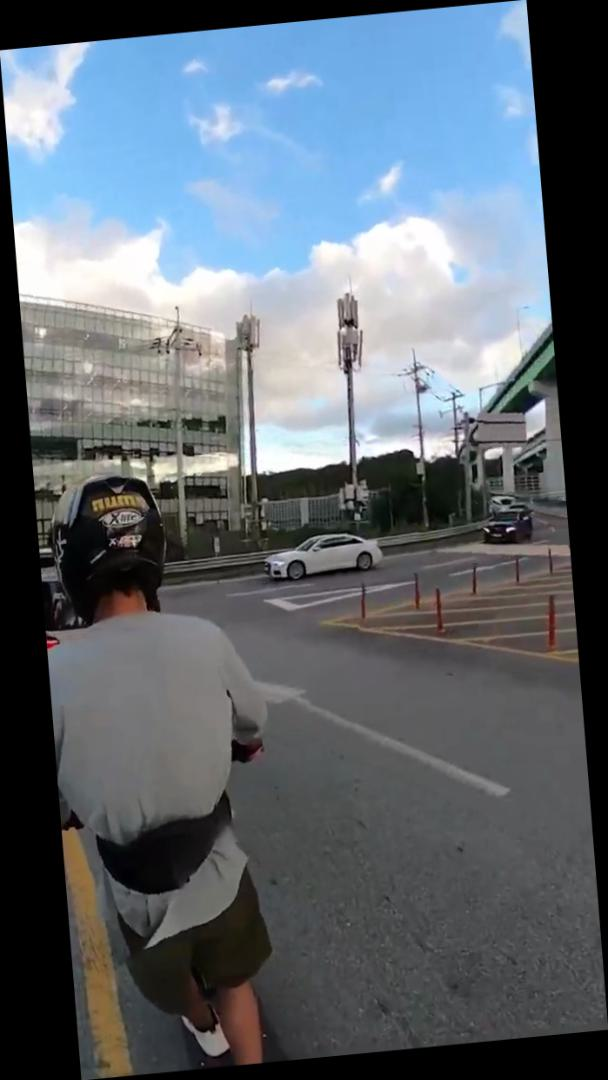helmet: (35, 459, 295, 1080)
